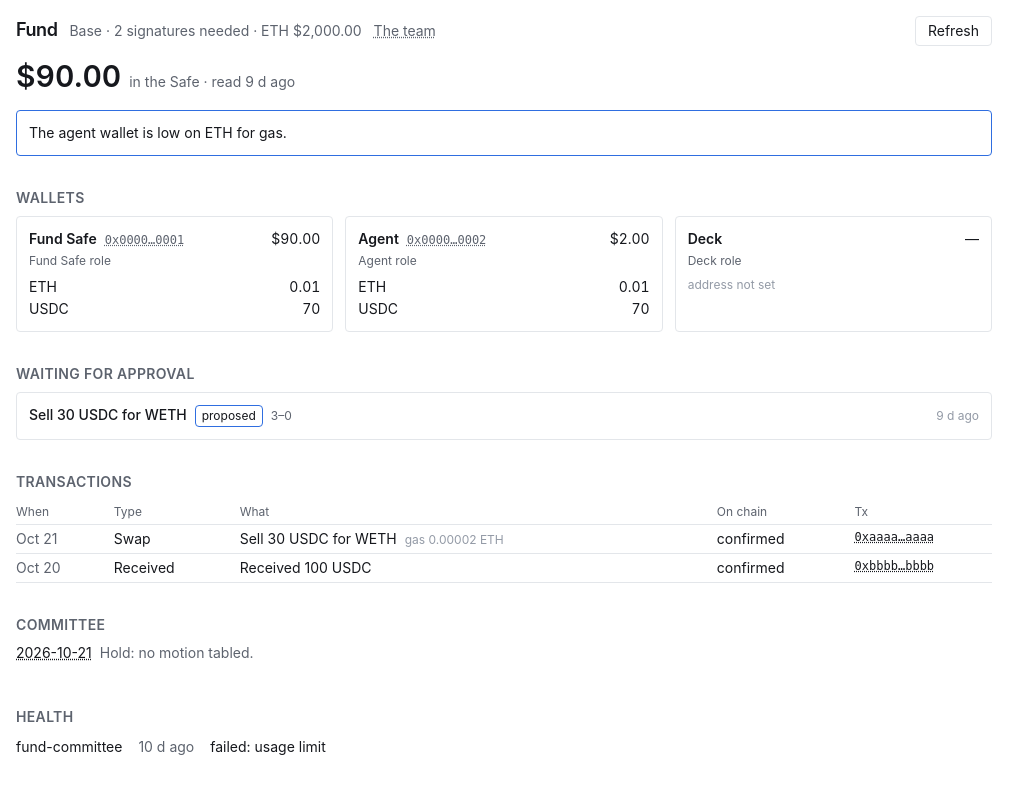
Test case: Fund page › opens a pending proposal to show the votes and says the page cannot approve
The image size is (1009, 793).
Check: the text with test id "nav" is shown, box [16, 58, 121, 94]
Step 1. Click the text "Sell 30 USDC for WETH" → (108, 415), box [29, 405, 187, 425]
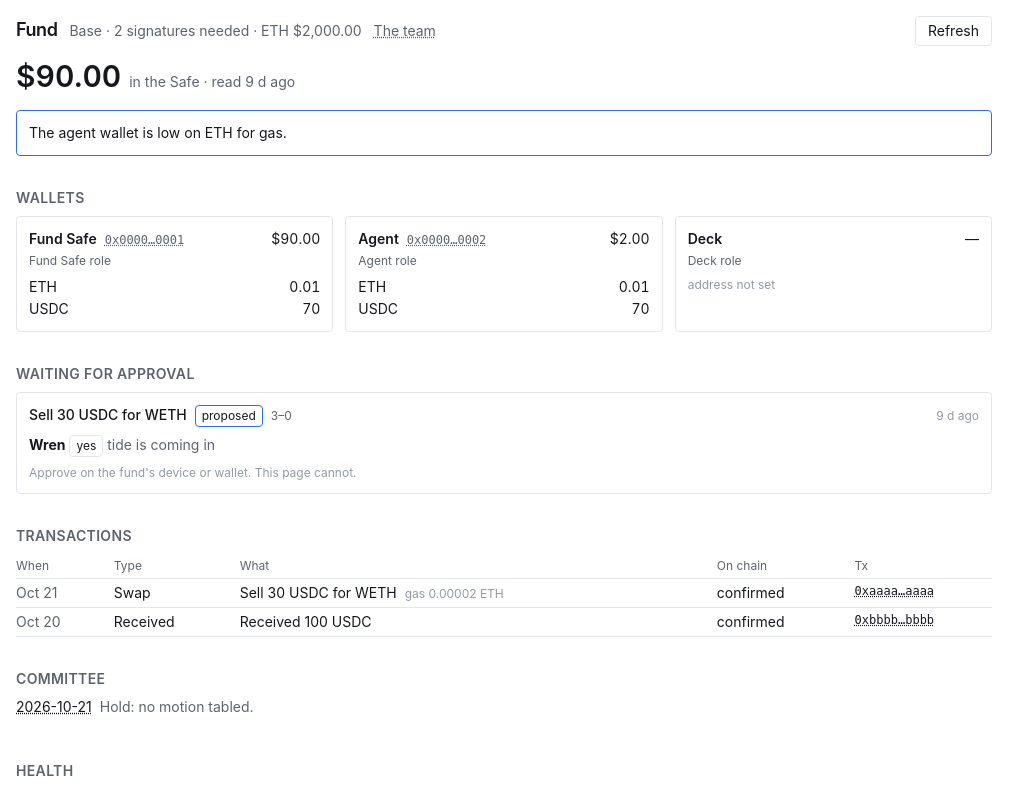
Check: the text "tide is coming in" is shown, box [107, 436, 215, 453]
Check: the list item "Approve on the fund's device or wallet. This page cannot." is shown, box [29, 465, 356, 480]
